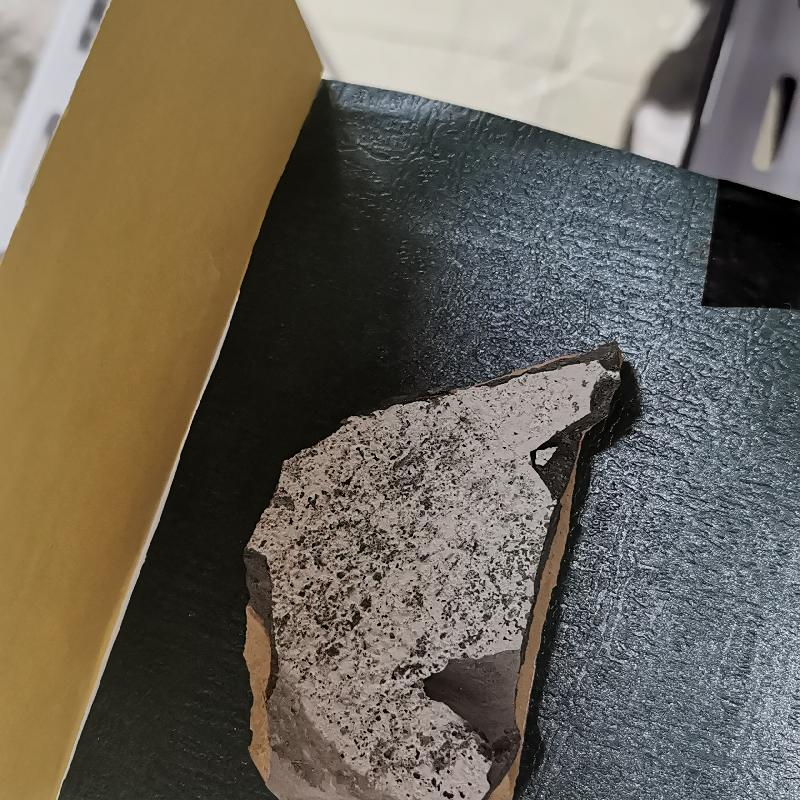tile: (232, 344, 640, 800)
